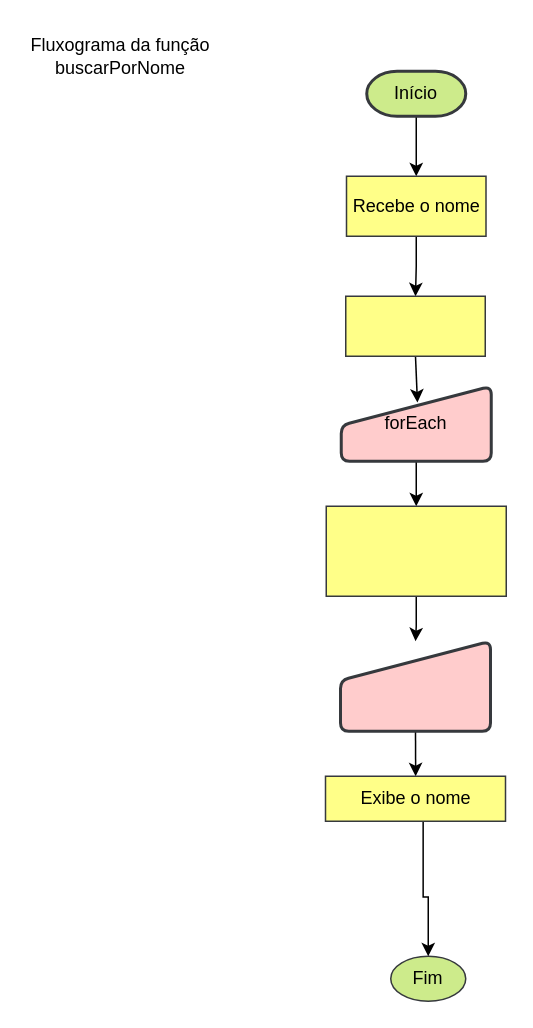
Some shapes in this 533 by 1028 pixel diagram are drawn without their labels. Here are the shapes that lost their labels. From the top down, the centre of each, then its label:
At point 414,325: "Percorre a lista".
At point 415,550: "Pega a nome do vendedor e converte para minúscula".
At point 414,685: "const buscaPorNome".
